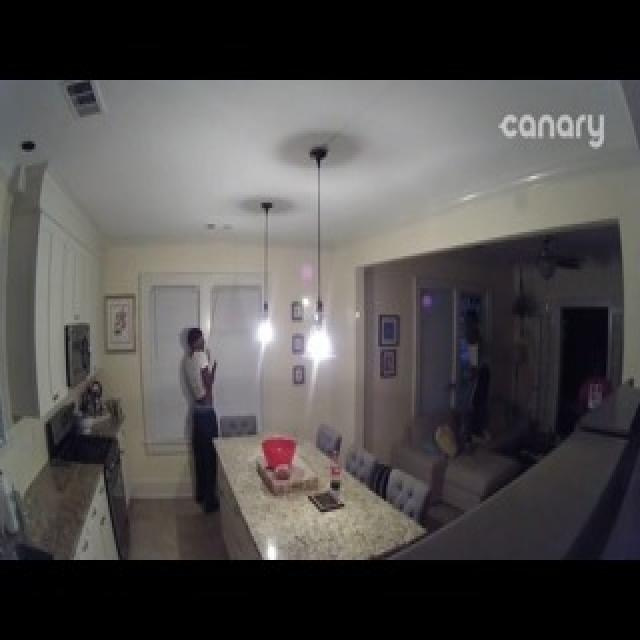thief: (172, 317, 229, 508)
